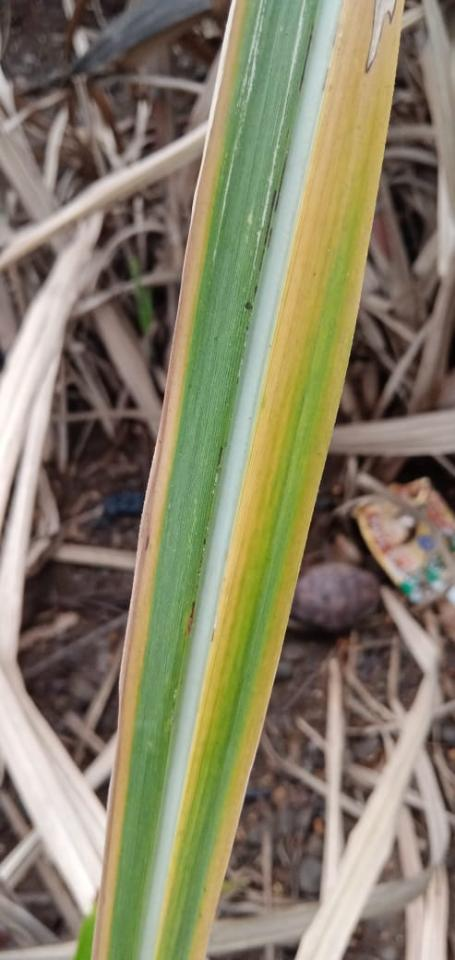Rust: (258, 188, 278, 272), (298, 22, 316, 93), (273, 152, 290, 214), (212, 444, 225, 489), (186, 599, 197, 636), (320, 66, 330, 92), (330, 31, 338, 48), (267, 227, 273, 249), (144, 534, 151, 552), (210, 626, 217, 642), (252, 283, 259, 298), (246, 302, 253, 310), (202, 537, 208, 546), (245, 324, 250, 332)
Yellow: (155, 1, 403, 959), (92, 0, 253, 959)
